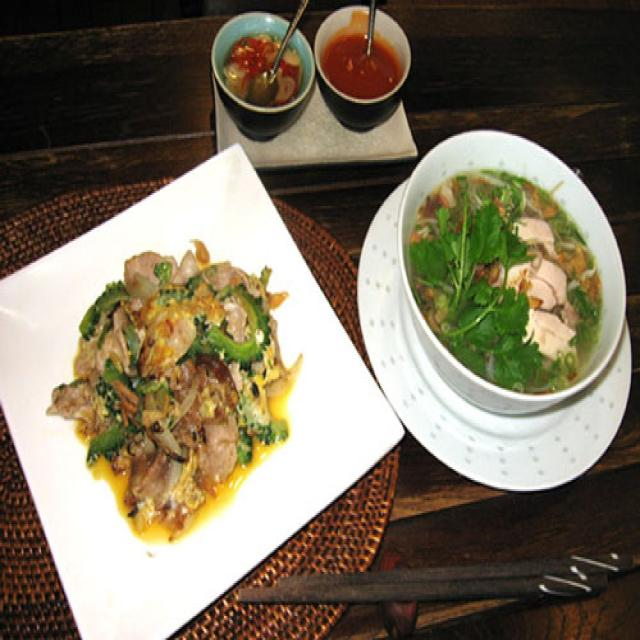熟制海鲜: (17, 201, 356, 568)
